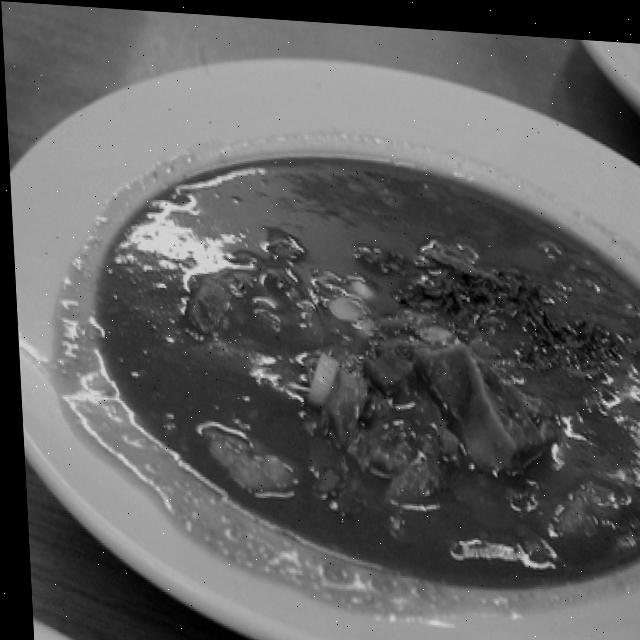汤锅炖物: (2, 48, 640, 640)
